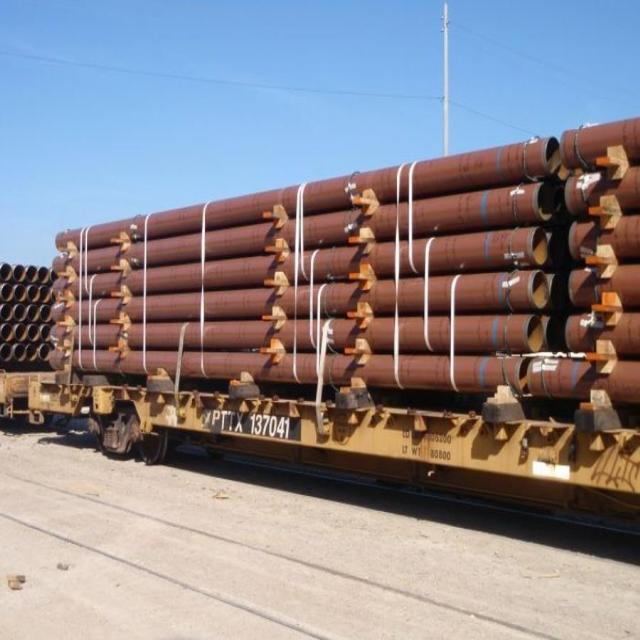cargo: (47, 111, 640, 418)
flatcar: (25, 374, 640, 510)
